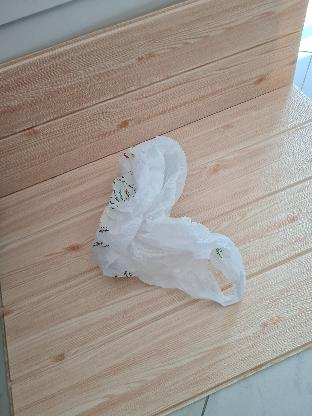Plastic Bag: (95, 142, 241, 298)
